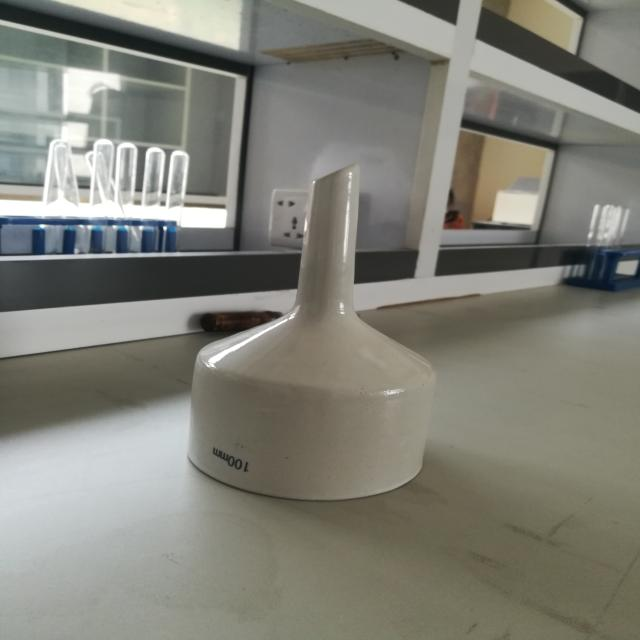Buchner_Funnel: (162, 121, 473, 518)
